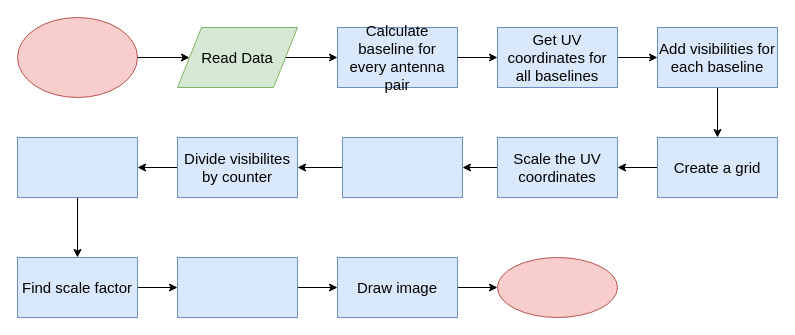
Some shapes in this 795 by 335 pixel diagram are drawn without their labels. Each missing label, with the box of its shape:
Add visibilities to grid: (342, 136, 462, 198)
Apply Inverse FFT: (16, 136, 138, 198)
Divide image grid by scale factor: (176, 256, 298, 318)
End: (496, 256, 618, 318)
Start: (16, 16, 138, 98)
